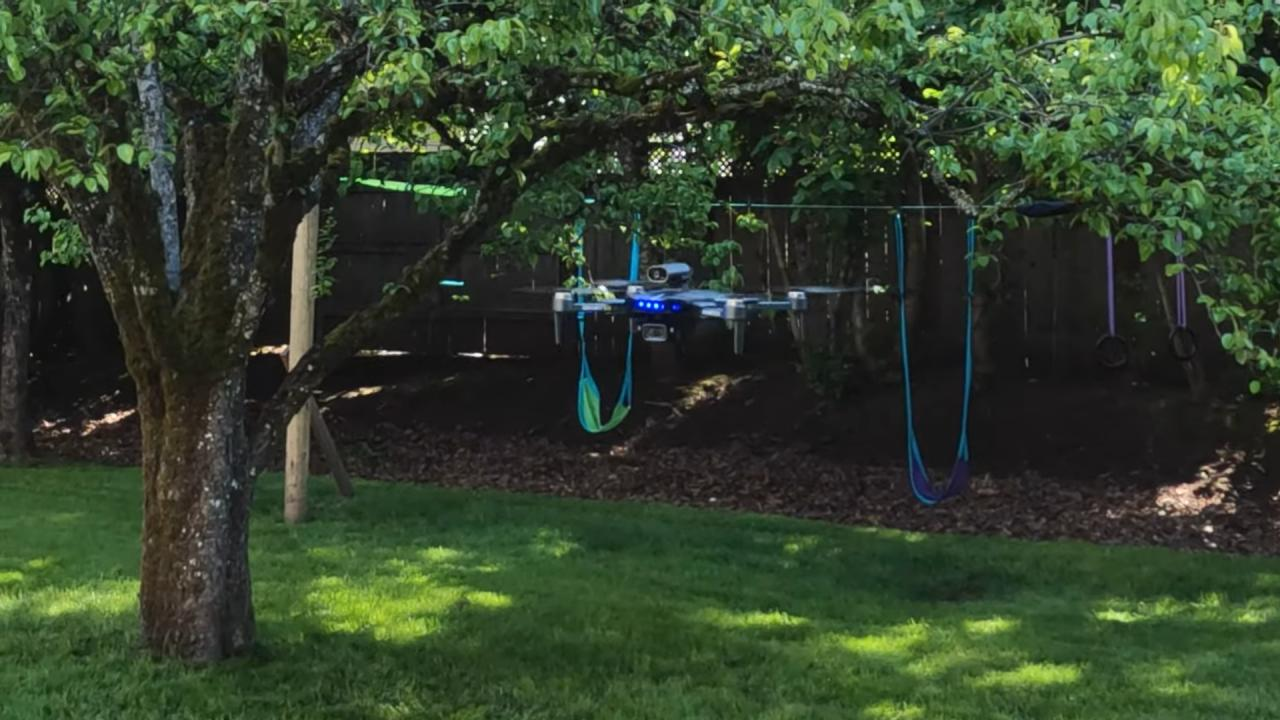Drone: (504, 255, 870, 362)
